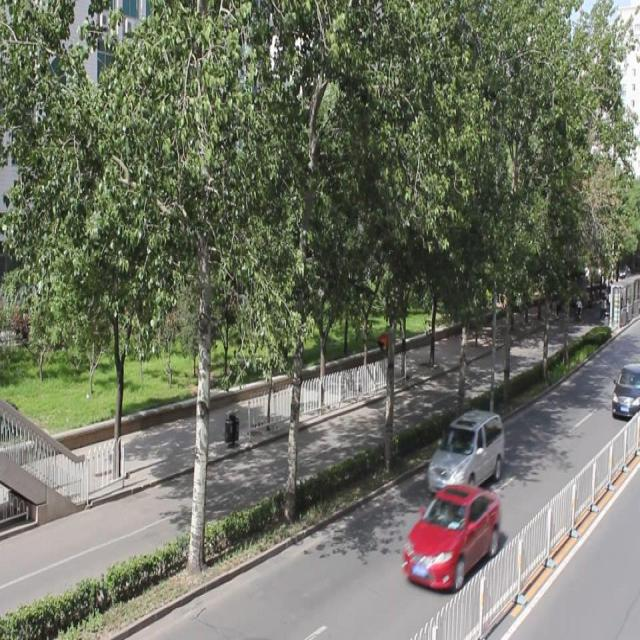car: (401, 481, 498, 590), (426, 410, 502, 494), (608, 363, 640, 420)
